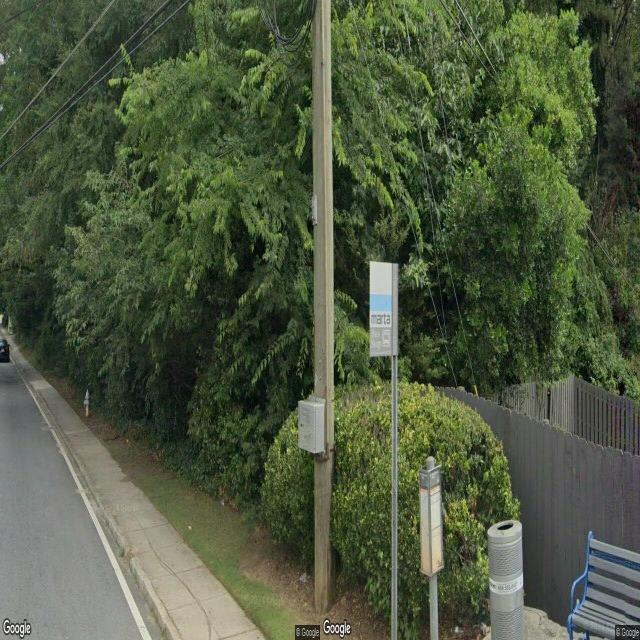seating: (567, 530, 640, 640)
trash_can: (488, 519, 524, 640)
